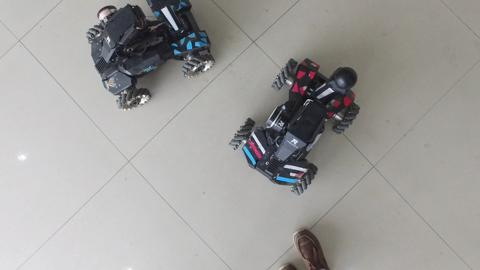chariot: (223, 46, 372, 207), (77, 1, 220, 119)
